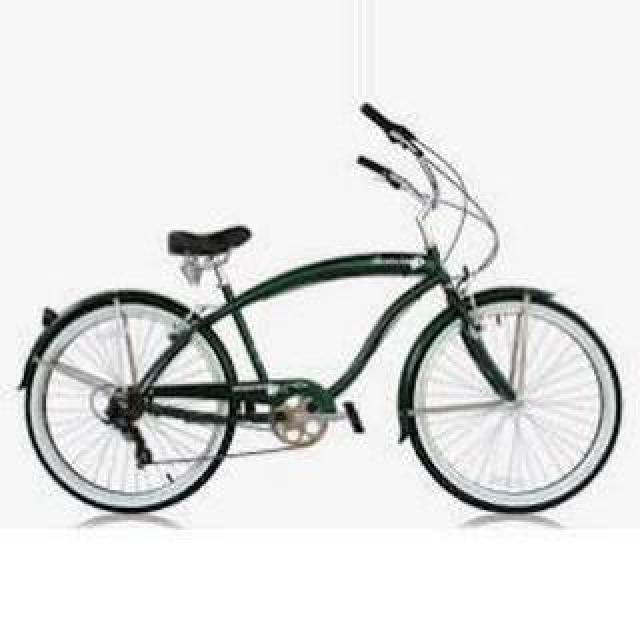Person: (10, 104, 630, 512)
